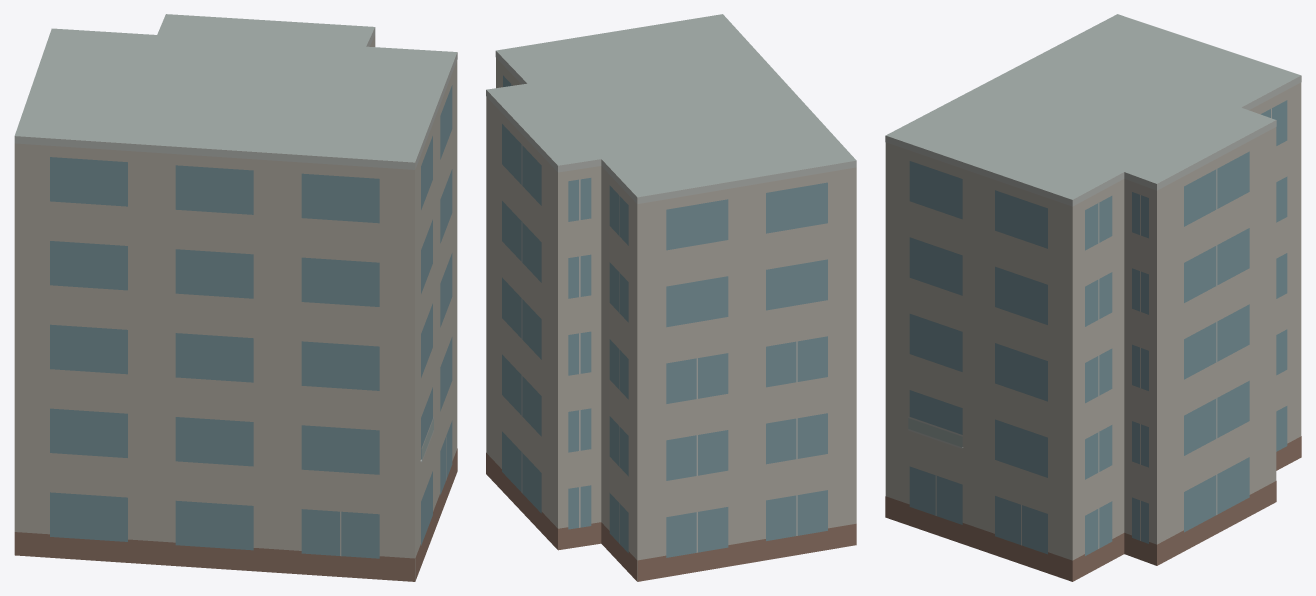
The model's file is survey-upis-32817429.glb.
3 views of the same model, side by side, from view 1: azimuth 30°, elevation 25°; view 2: azimuth 150°, elevation 25°; view 3: azimuth 270°, elevation 25° (orthographic). The views are drawn at different scales.
Visible parts, largest first — view 1: survey-upis-32817429.tmp; view 2: survey-upis-32817429.tmp; view 3: survey-upis-32817429.tmp.
Boxes of the visible parts, x1,y1,x2,y2 form: survey-upis-32817429.tmp: (14,14,457,581); survey-upis-32817429.tmp: (486,14,856,581); survey-upis-32817429.tmp: (885,14,1301,581).
Bounding box in the file's own units: 14.52 × 13.9 × 13.73.
